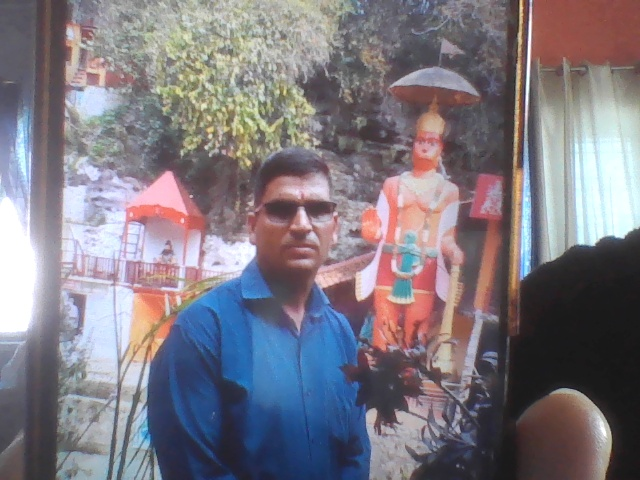fake: (236, 125, 354, 293)
